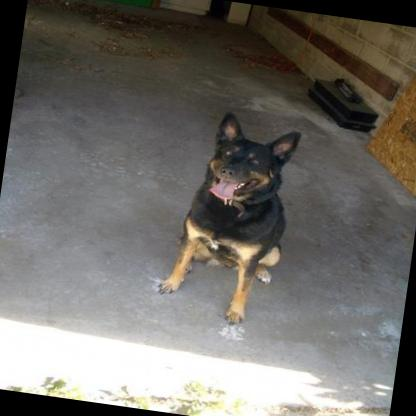kelpie: (148, 102, 298, 326)
